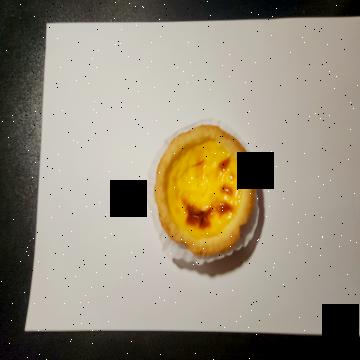EggTart: (154, 123, 255, 257)
